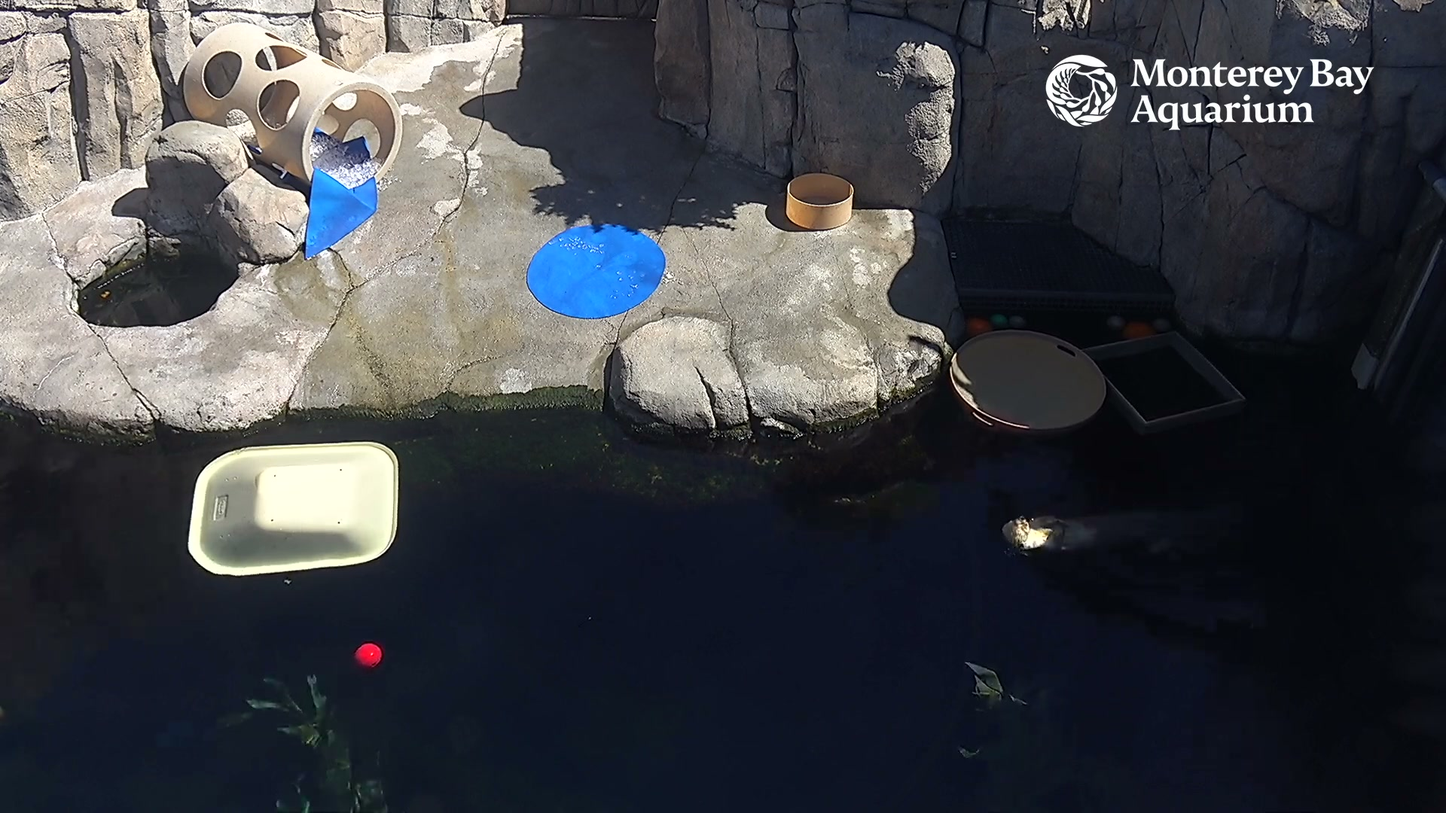Southern Sea Otter: (998, 477, 1348, 590)
